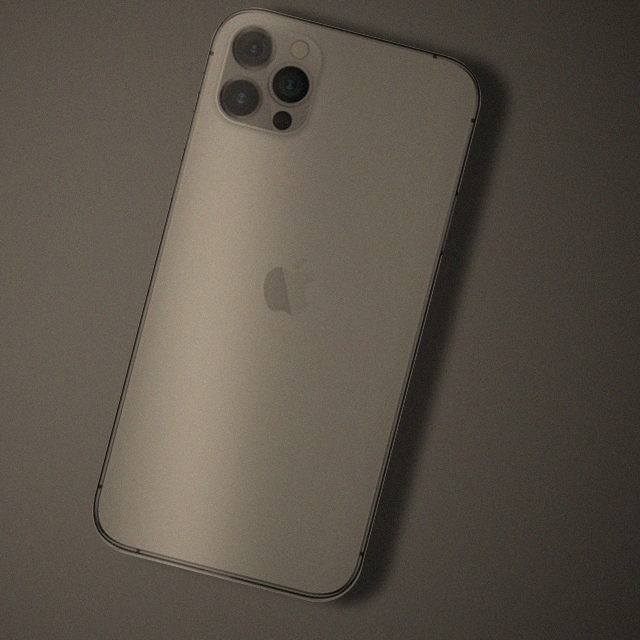iphone_12pro_silver: (92, 6, 516, 635), (203, 18, 336, 140)
